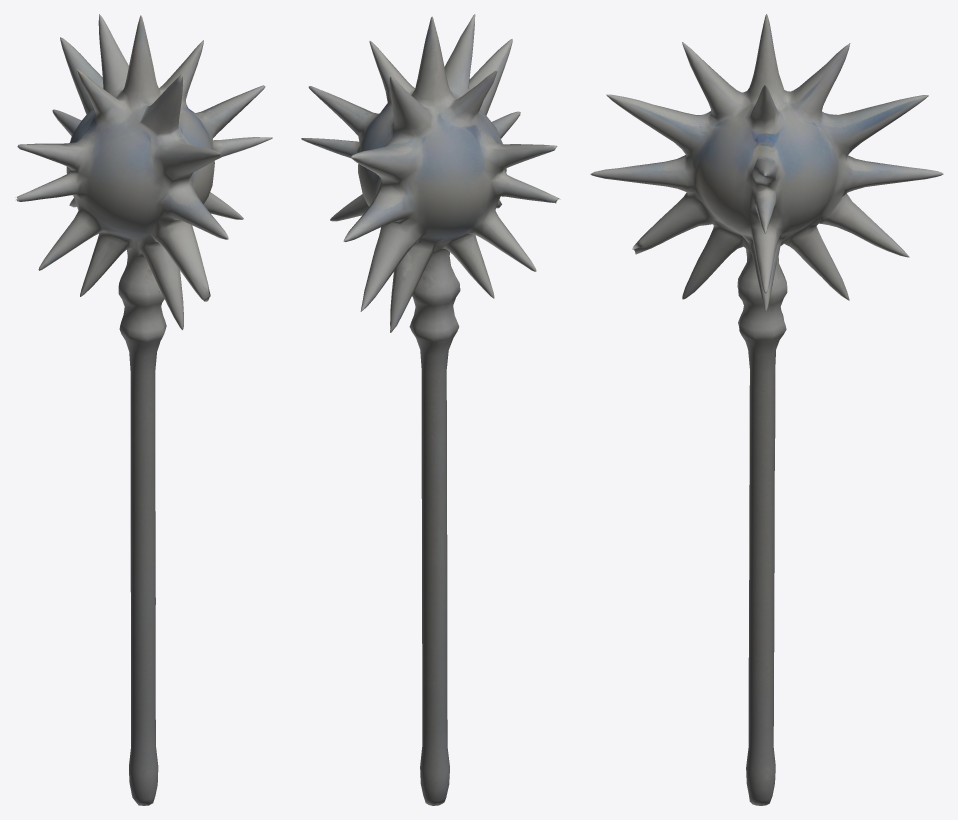
File: morning_star.fbx
The picture shows the model from 3 angles, left to right: view 1: azimuth 30°, elevation 25°; view 2: azimuth 150°, elevation 25°; view 3: azimuth 270°, elevation 25°; orthographic projection.
Parts seen in each view (by area): view 1: tripo_node_61444be4-8d23-464e-a9b9-75ba6ac99e8d; view 2: tripo_node_61444be4-8d23-464e-a9b9-75ba6ac99e8d; view 3: tripo_node_61444be4-8d23-464e-a9b9-75ba6ac99e8d.
Part boxes in pixels (x1=…): tripo_node_61444be4-8d23-464e-a9b9-75ba6ac99e8d: x1=15, y1=14, x2=272, y2=805; tripo_node_61444be4-8d23-464e-a9b9-75ba6ac99e8d: x1=301, y1=14, x2=560, y2=805; tripo_node_61444be4-8d23-464e-a9b9-75ba6ac99e8d: x1=590, y1=14, x2=943, y2=805.
Size of the model in its own units: 53.68 by 156 by 63.33.
1 material, 1 textured.
